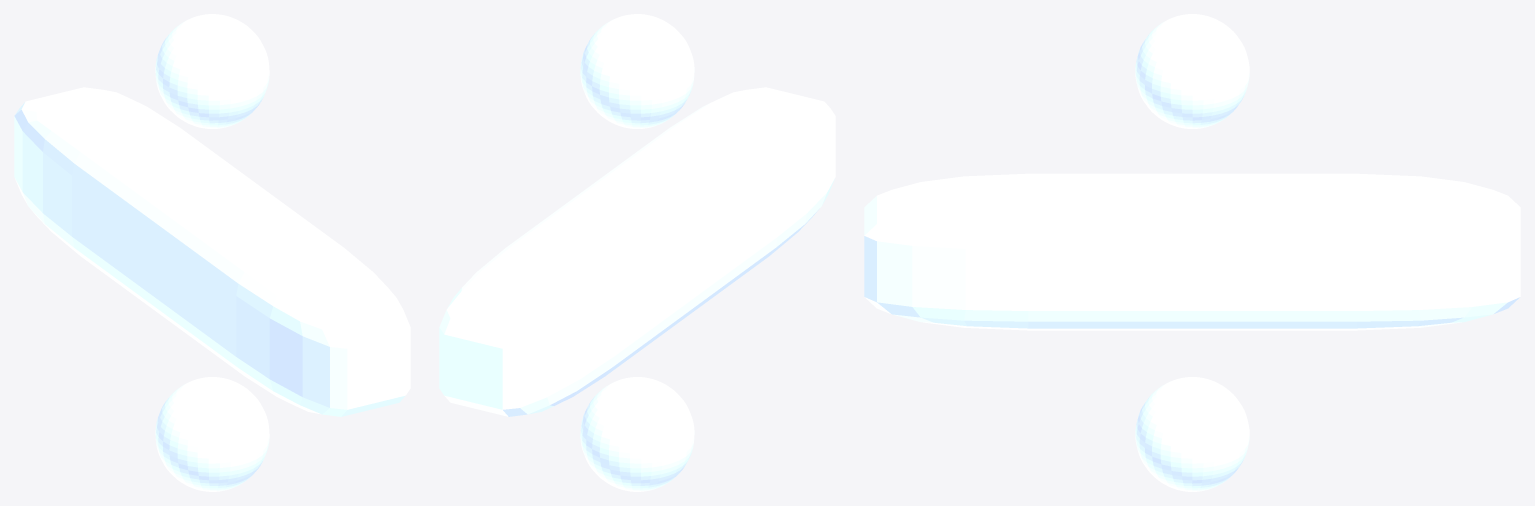
Rendered from DIVISION_SIGN.fbx.
3 renders of one model, left to right at view 1: azimuth 30°, elevation 25°; view 2: azimuth 150°, elevation 25°; view 3: azimuth 270°, elevation 25°, orthographic.
Parts seen in each view (by area): view 1: division_sign; view 2: division_sign; view 3: division_sign.
Boxes of the visible parts, x1,y1,x2,y2 form: division_sign: [14, 14, 410, 491]; division_sign: [439, 14, 835, 491]; division_sign: [864, 14, 1520, 491].
Bounding box in the file's own units: 31.27 × 120 × 152.
